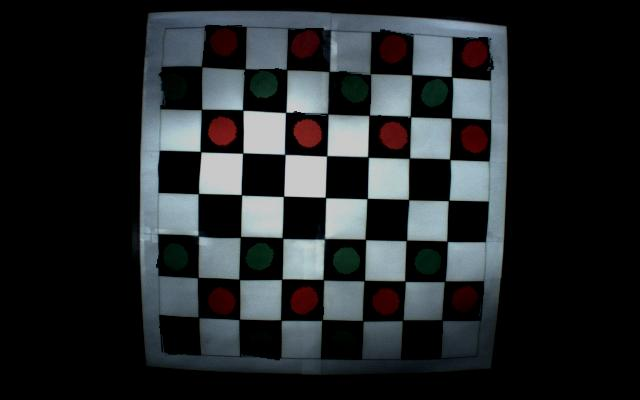g: (242, 325, 280, 361), (158, 238, 194, 274), (243, 241, 279, 276), (409, 246, 445, 281), (158, 68, 192, 105), (245, 69, 282, 103), (328, 243, 363, 278), (407, 323, 442, 358), (326, 325, 361, 359), (160, 322, 195, 355), (336, 72, 371, 104), (420, 77, 452, 112)
r: (287, 113, 326, 151), (374, 116, 410, 155), (204, 26, 242, 62), (203, 113, 239, 151), (376, 31, 412, 67), (288, 283, 323, 319), (460, 37, 494, 74), (290, 28, 324, 63), (203, 284, 238, 318), (369, 284, 404, 318), (457, 120, 490, 155), (450, 283, 483, 317)
